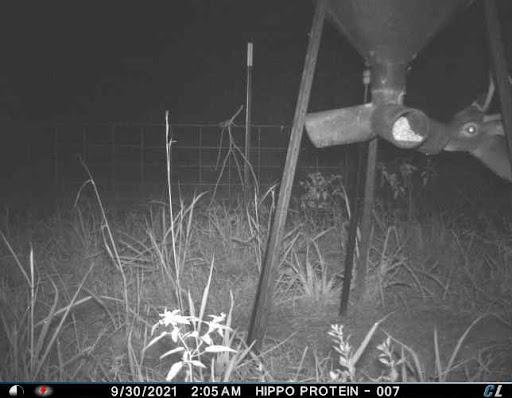Deer: (433, 66, 512, 194)
